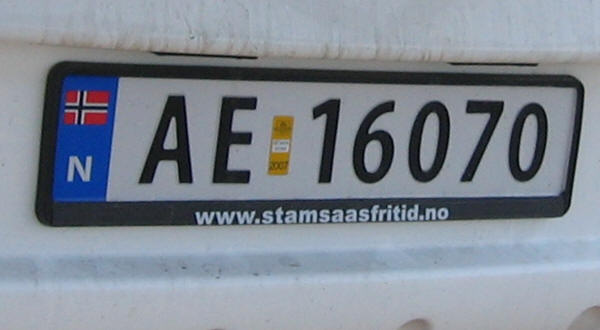license_plate: (50, 75, 583, 207)
